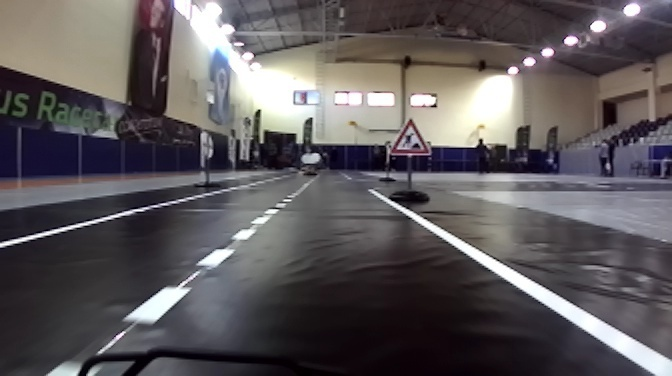yol_yapimi: (387, 116, 438, 159)
